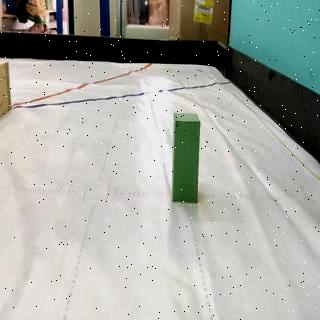greenbox: (172, 110, 202, 204)
